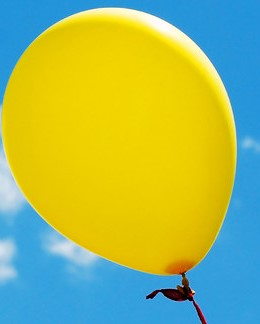Balloon: (1, 7, 237, 276)
